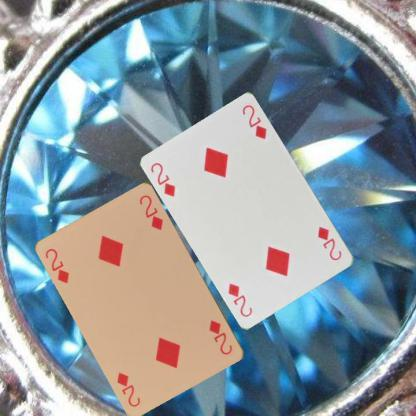2d: (206, 317, 234, 357), (43, 245, 71, 285), (148, 160, 177, 198), (315, 224, 343, 262)
